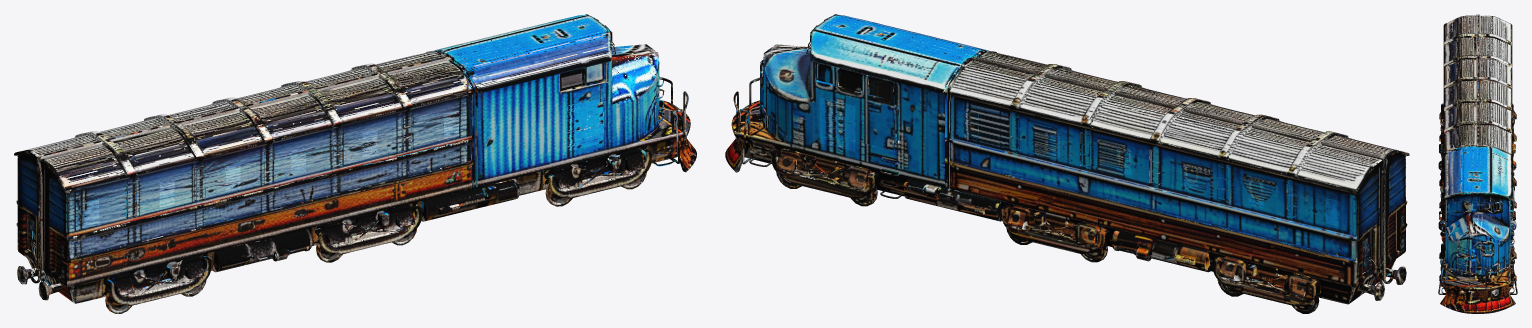
File: textured_image.glb
3 views of the same model, side by side, from view 1: azimuth 30°, elevation 25°; view 2: azimuth 150°, elevation 25°; view 3: azimuth 270°, elevation 25° (orthographic). The views are drawn at different scales.
Parts seen in each view (by area): view 1: Node; view 2: Node; view 3: Node.
Part boxes in pixels (bbox=[...]): Node: bbox=[14, 14, 696, 313]; Node: bbox=[725, 14, 1409, 313]; Node: bbox=[1438, 14, 1517, 313].
Size of the model in its own units: 2 by 0.449 by 0.3223.
1 material, 1 textured.
